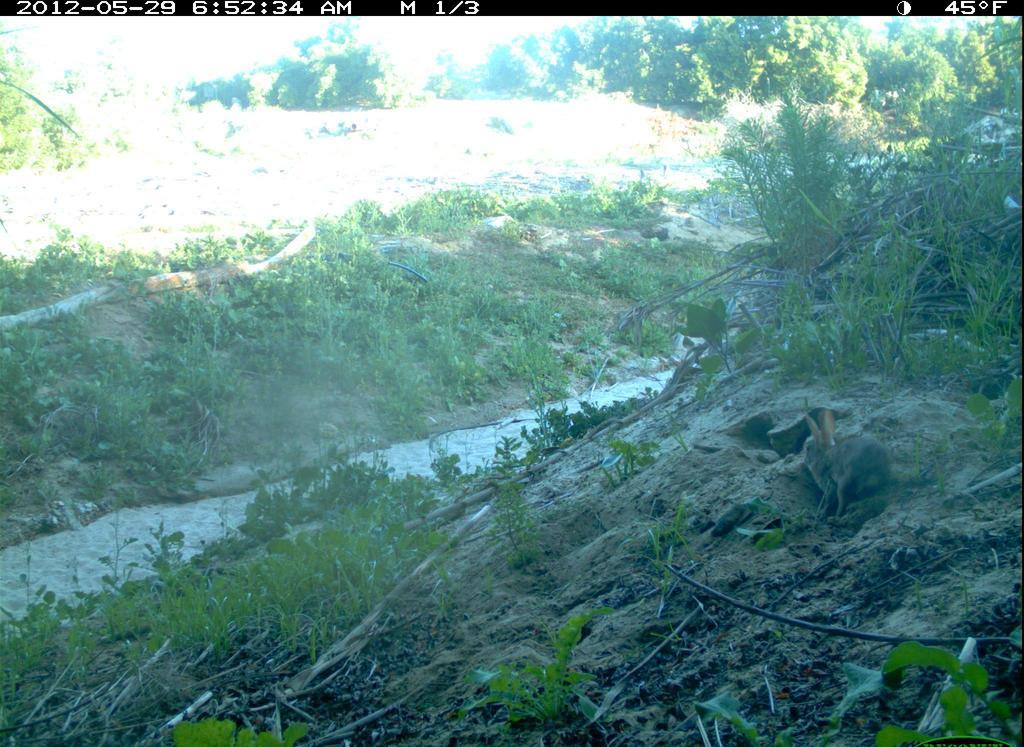rabbit: (798, 404, 891, 528)
